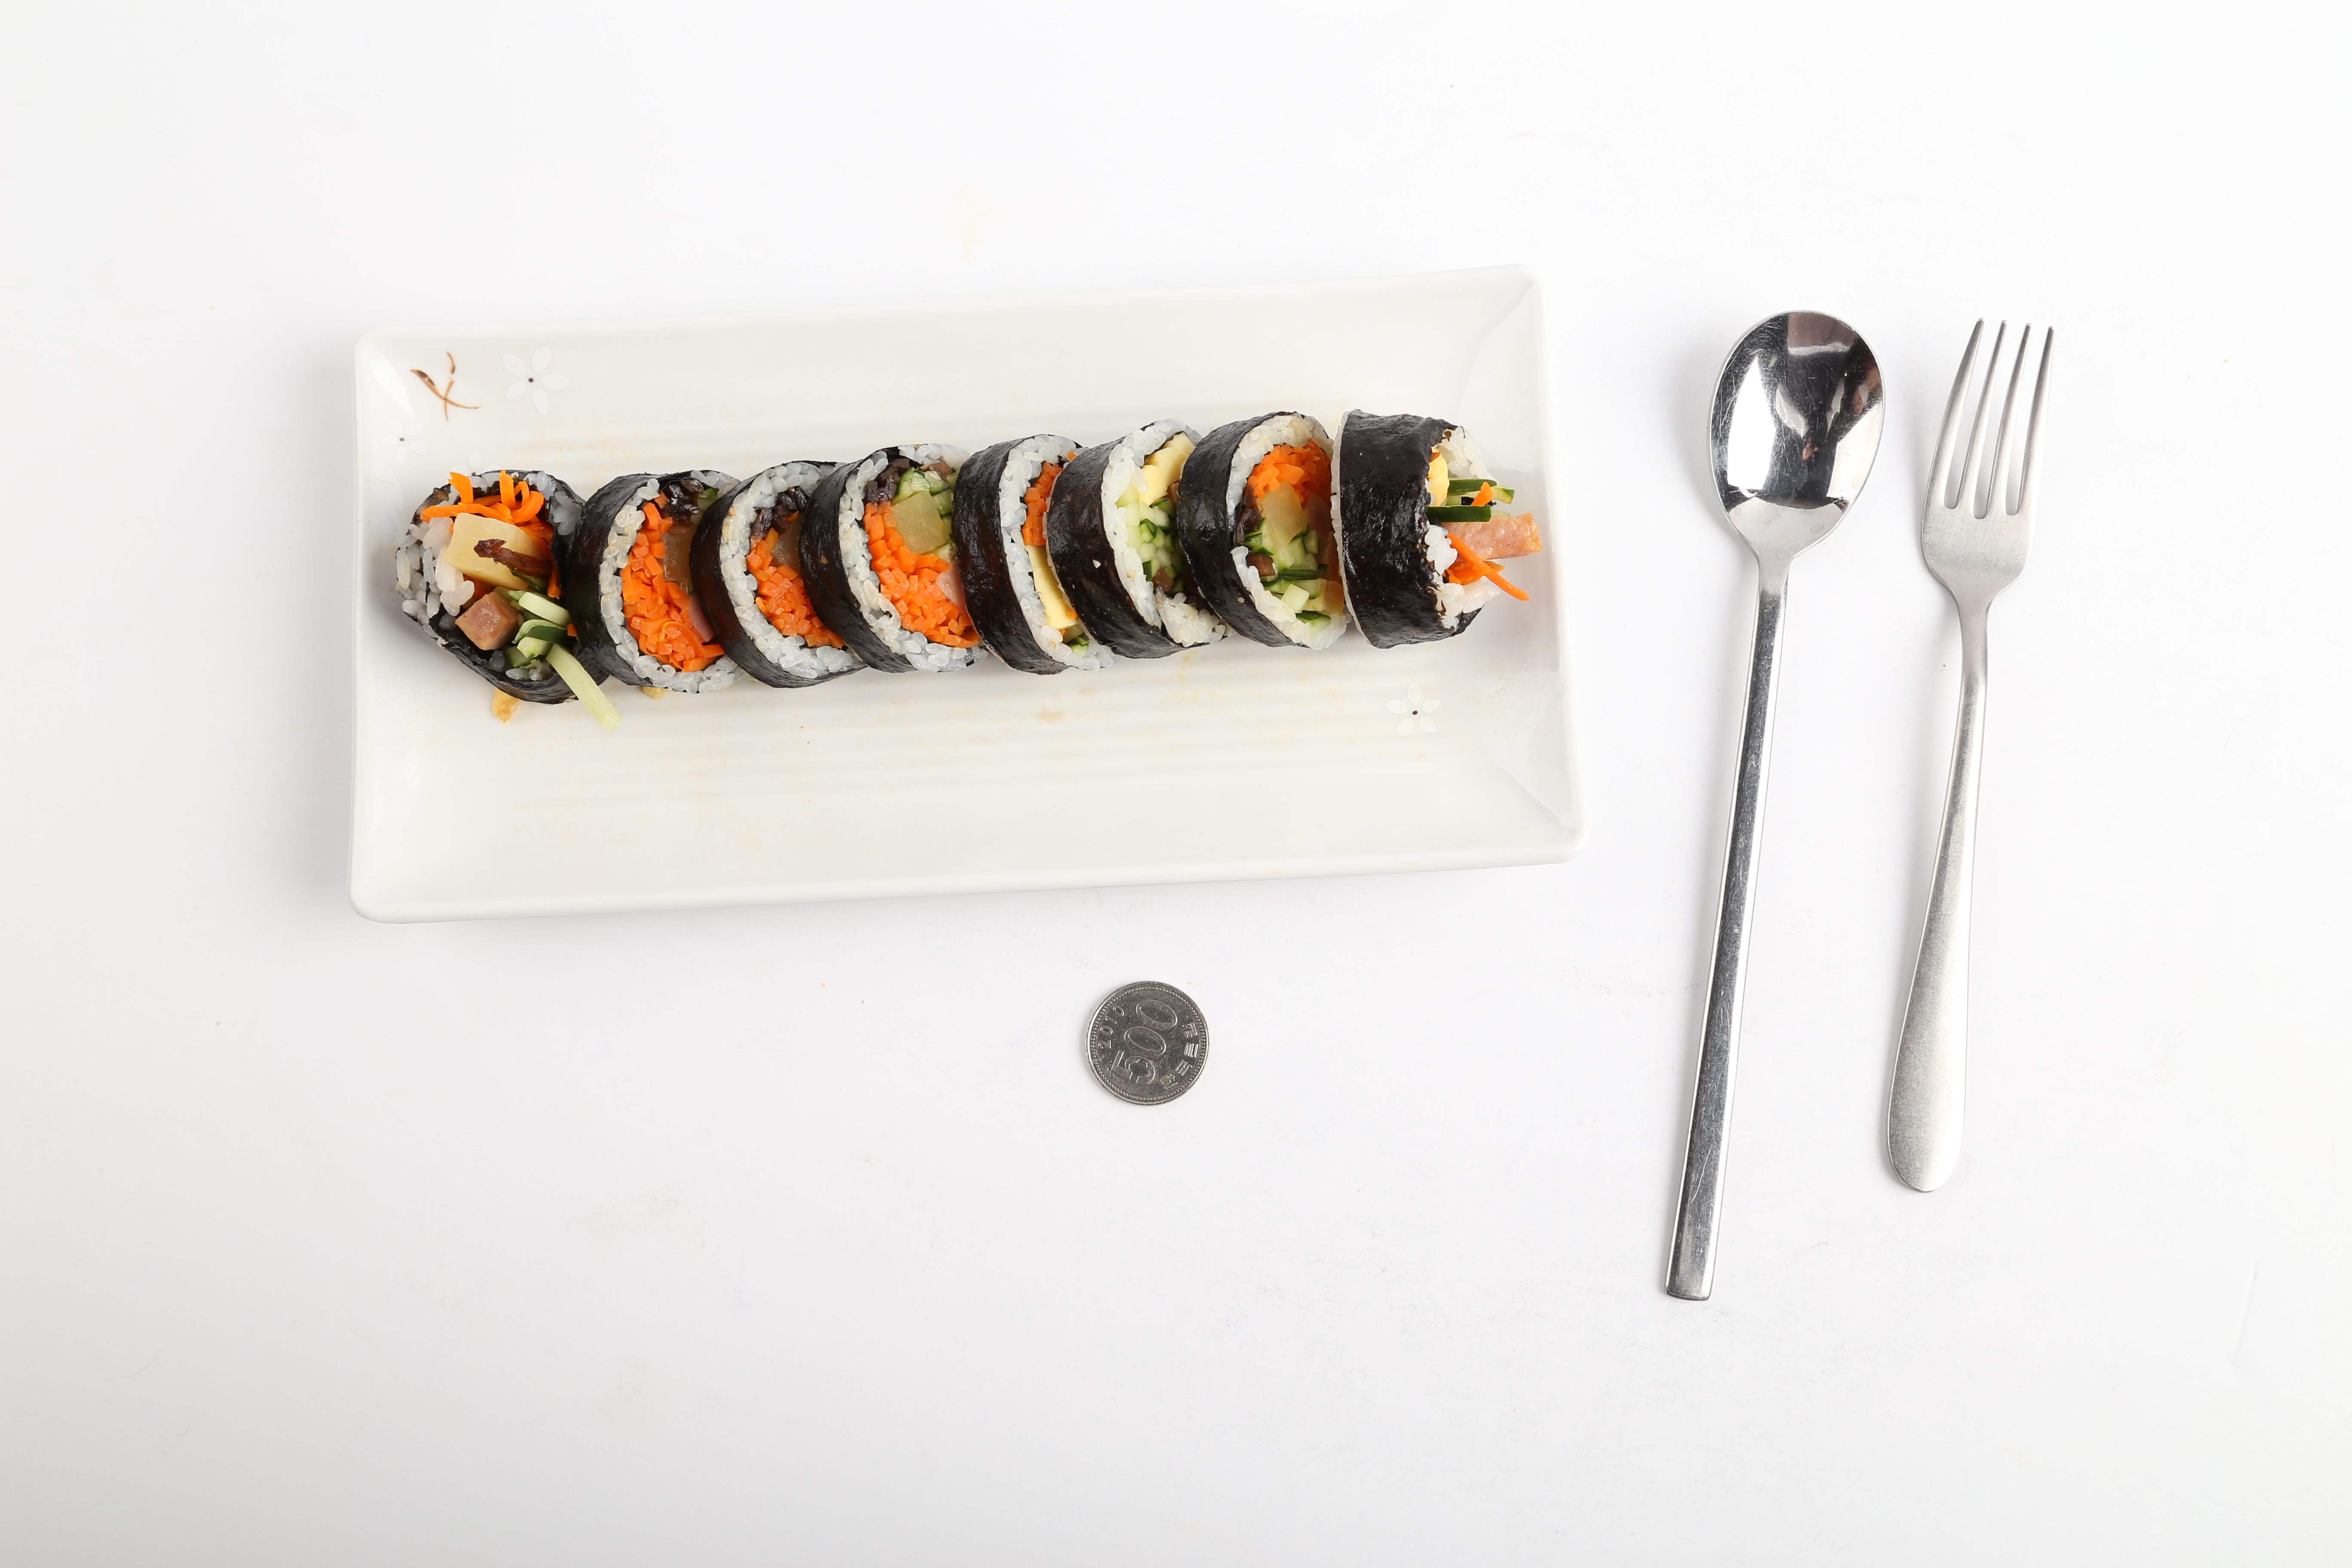dish: (348, 259, 1585, 924)
ref_coin: (1073, 969, 1216, 1113)
ref_fork: (1916, 315, 2054, 644)
ref_spoon: (1706, 304, 1883, 602)
김밥: (394, 402, 1536, 709)
